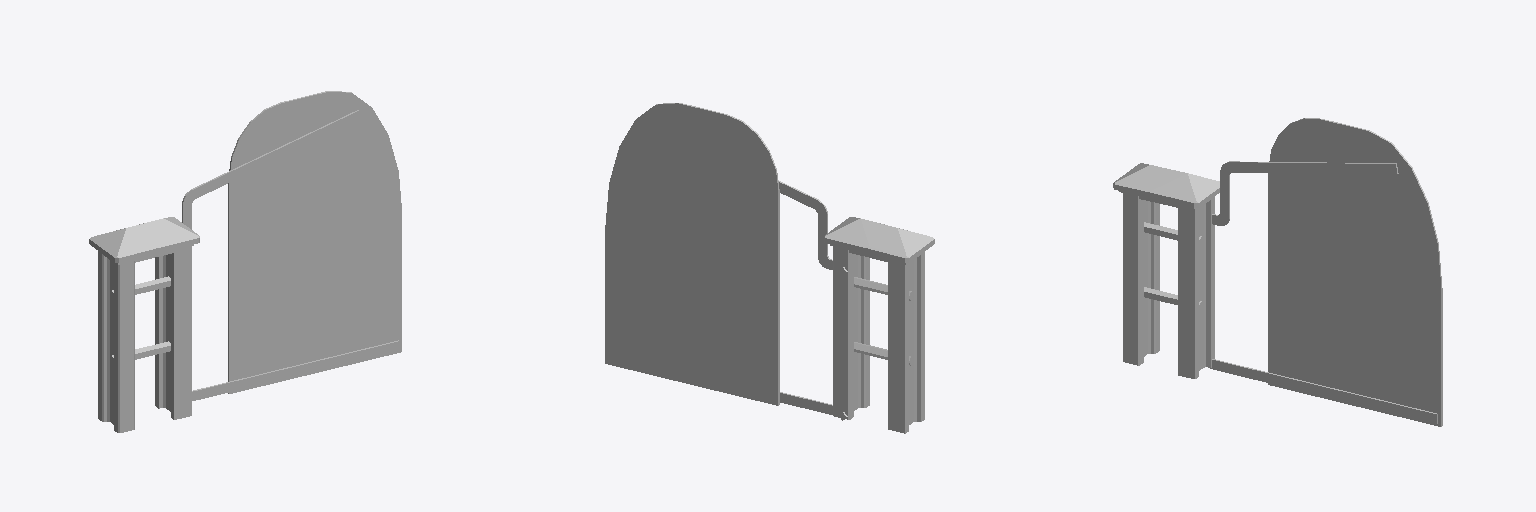
File: lms_post_rail_backplate_top.obj
3 renders of one model, left to right at view 1: azimuth 30°, elevation 25°; view 2: azimuth 150°, elevation 25°; view 3: azimuth 330°, elevation 25°, orthographic.
Visible parts, largest first — view 1: backplate_railpost_top_Cube.031; view 2: backplate_railpost_top_Cube.031; view 3: backplate_railpost_top_Cube.031.
Boxes of the visible parts, <box> form: backplate_railpost_top_Cube.031: <box>89,91,401,432</box>; backplate_railpost_top_Cube.031: <box>605,103,934,433</box>; backplate_railpost_top_Cube.031: <box>1113,118,1442,426</box>.
Bounding box in the file's own units: 1.66 × 1.43 × 0.2667.